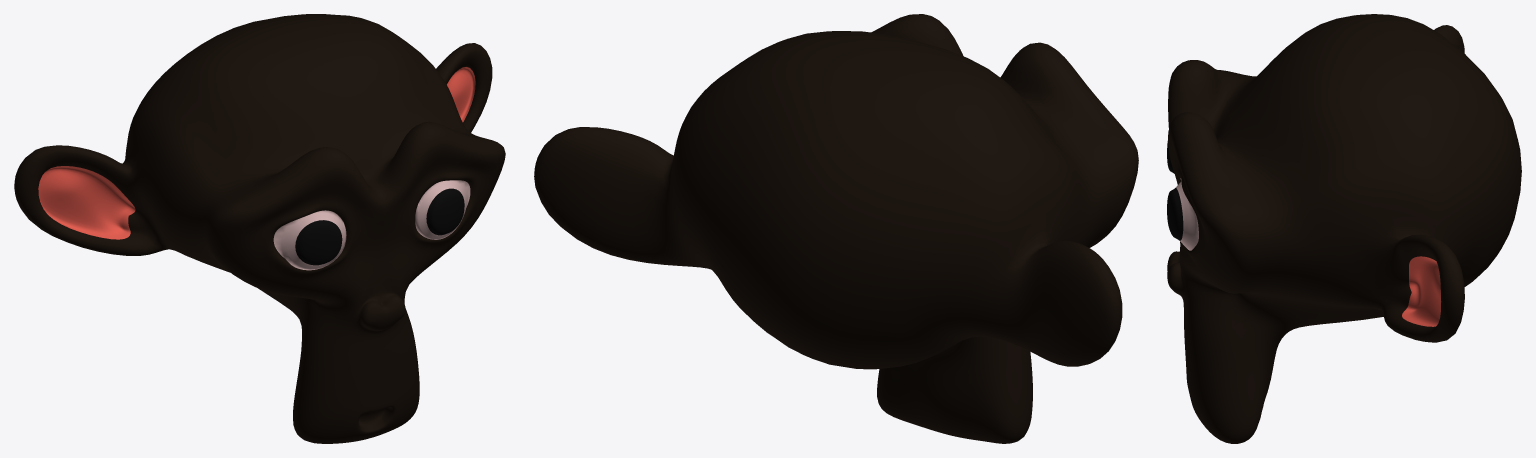
Rendered from Suzanne.dae.
The picture shows the model from 3 angles, left to right: view 1: azimuth 30°, elevation 25°; view 2: azimuth 150°, elevation 25°; view 3: azimuth 270°, elevation 25°; orthographic projection. The views are drawn at different scales.
Size of the model in its own units: 2.66 by 1.6 by 1.91.
